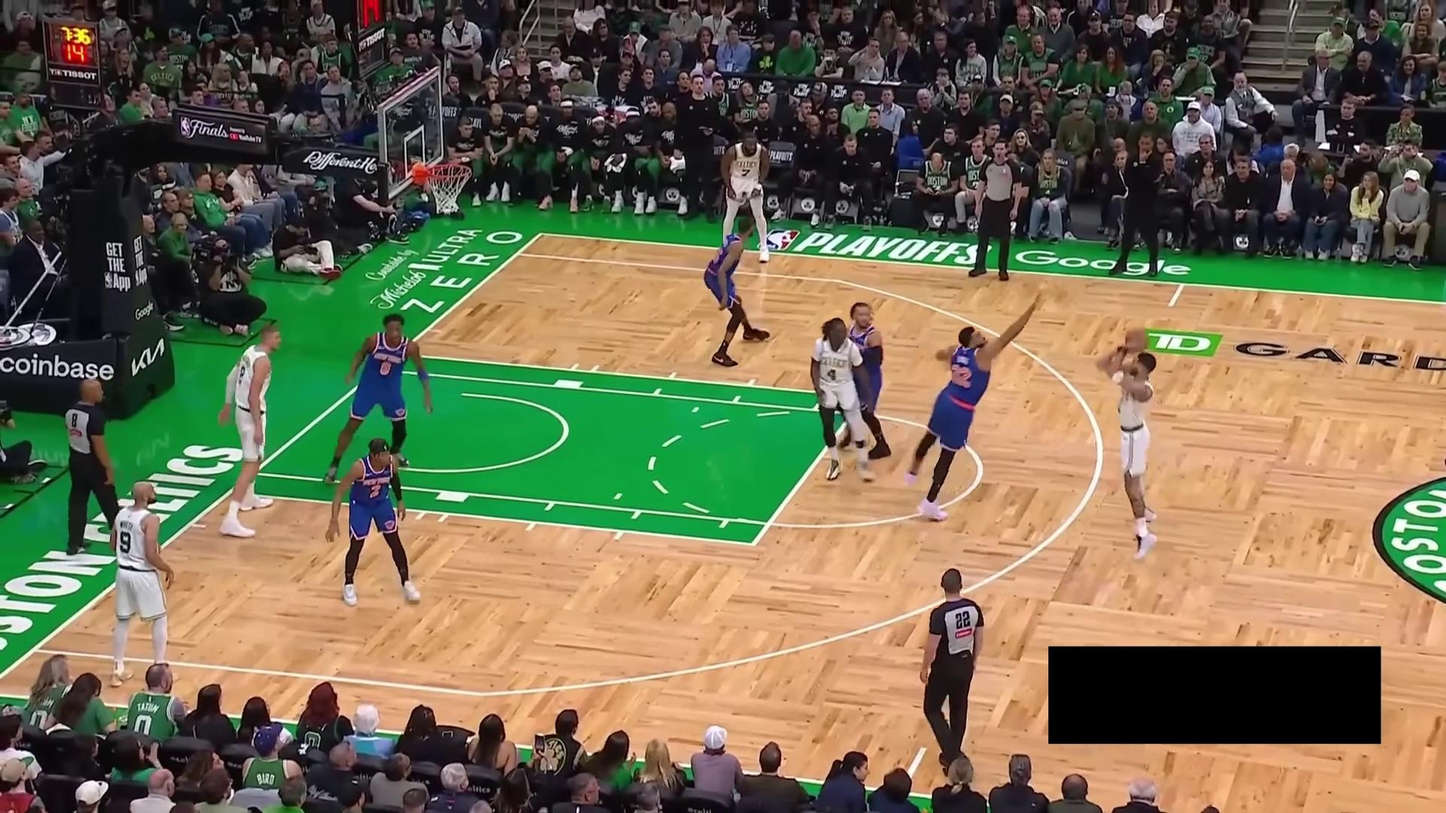ball: (1124, 325, 1149, 353)
number: (950, 363, 973, 388), (120, 530, 132, 553), (237, 364, 247, 385), (379, 360, 392, 376), (369, 483, 382, 499), (825, 367, 838, 382), (740, 167, 752, 178)
player: (324, 312, 434, 489), (325, 435, 423, 607), (107, 479, 176, 691), (217, 320, 283, 539), (810, 317, 877, 484), (703, 215, 772, 367), (835, 300, 891, 459), (719, 129, 773, 263)
player-jump-shot: (1094, 324, 1162, 561)
player-shot-block: (903, 293, 1047, 522)
referee: (919, 568, 985, 792), (63, 378, 120, 556), (967, 139, 1023, 283)
rim: (426, 162, 473, 180)
